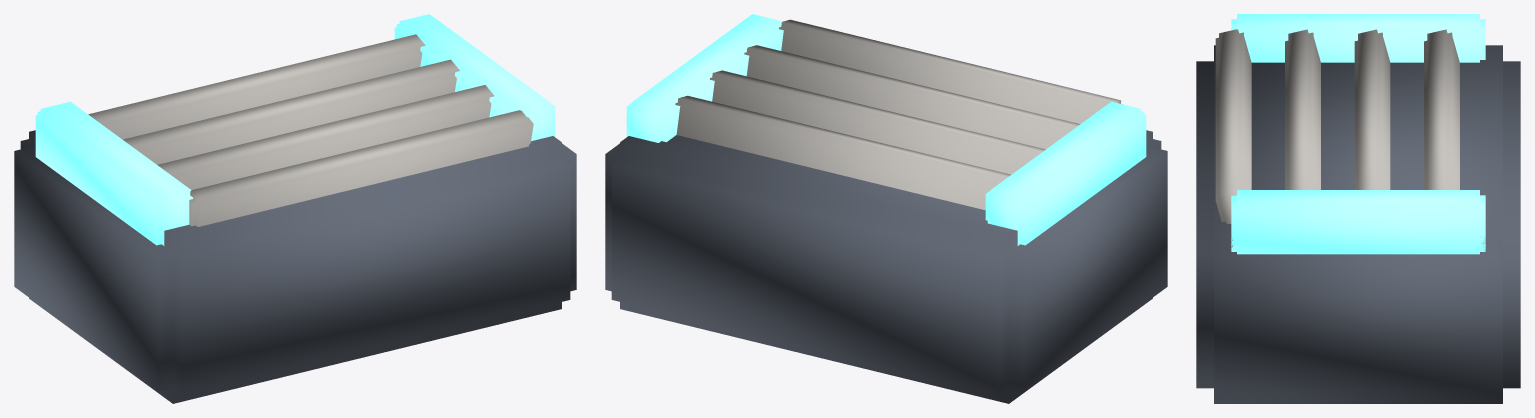
File: cooldown.glb
The picture shows the model from 3 angles, left to right: view 1: azimuth 30°, elevation 25°; view 2: azimuth 150°, elevation 25°; view 3: azimuth 270°, elevation 25°; orthographic projection.
Visible parts, largest first — view 1: cooldown; view 2: cooldown; view 3: cooldown.
Boxes of the visible parts, x1,y1,x2,y2 form: cooldown: (14, 14, 576, 403); cooldown: (605, 14, 1167, 403); cooldown: (1196, 14, 1520, 403).
Bounding box in the file's own units: 0.42 × 0.19 × 0.28.
